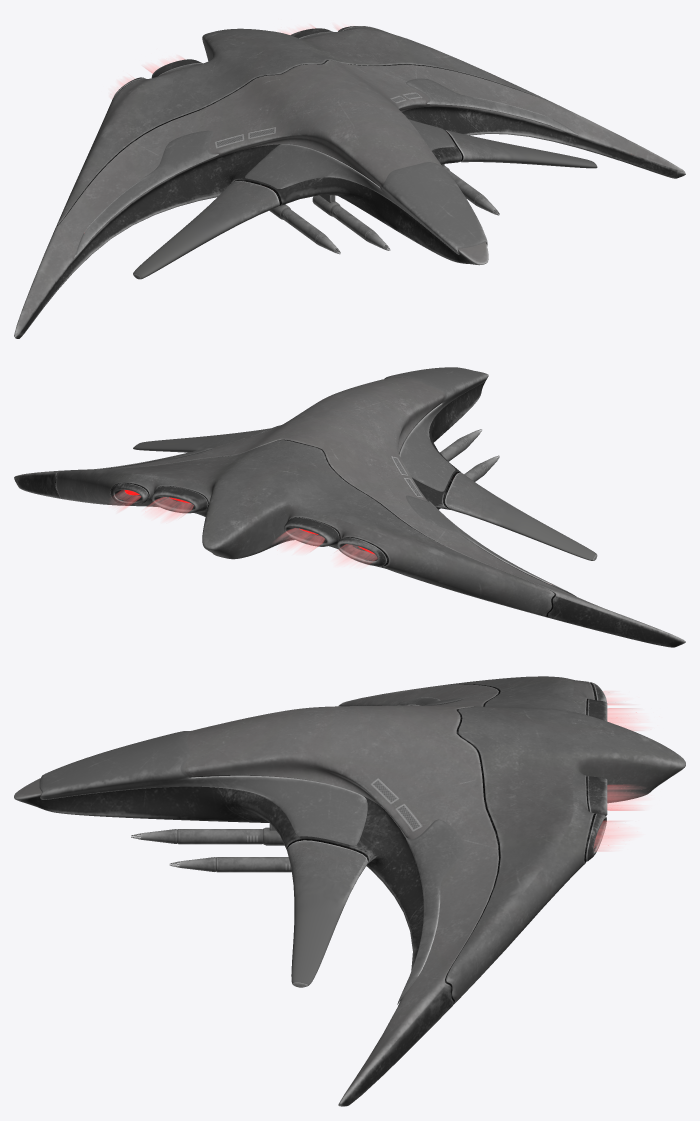
Rendered from drone_fighter.gltf.
The picture shows the model from 3 angles, top to bottom: view 1: azimuth 30°, elevation 25°; view 2: azimuth 150°, elevation 25°; view 3: azimuth 270°, elevation 25°; orthographic projection. The views are drawn at different scales.
Parts seen in each view (by area): view 1: Ship_Body, Armor, Guns; view 2: Ship_Body, Armor, Thruster Energy, Guns; view 3: Ship_Body, Armor, Guns, Thruster Energy.
Boxes of the visible parts, <box> form: Ship_Body: <box>14,26,685,338</box>; Armor: <box>74,78,577,257</box>; Guns: <box>269,164,499,254</box>; Ship_Body: <box>14,371,685,647</box>; Armor: <box>94,367,576,596</box>; Thruster Energy: <box>113,490,377,565</box>; Guns: <box>438,429,499,509</box>; Ship_Body: <box>14,676,685,1106</box>; Armor: <box>39,697,464,1004</box>; Guns: <box>131,823,291,872</box>; Thruster Energy: <box>594,691,645,851</box>.
Bounding box in the file's own units: 24.37 × 5.59 × 17.34.
Materials: 2 (2 with a texture image).
